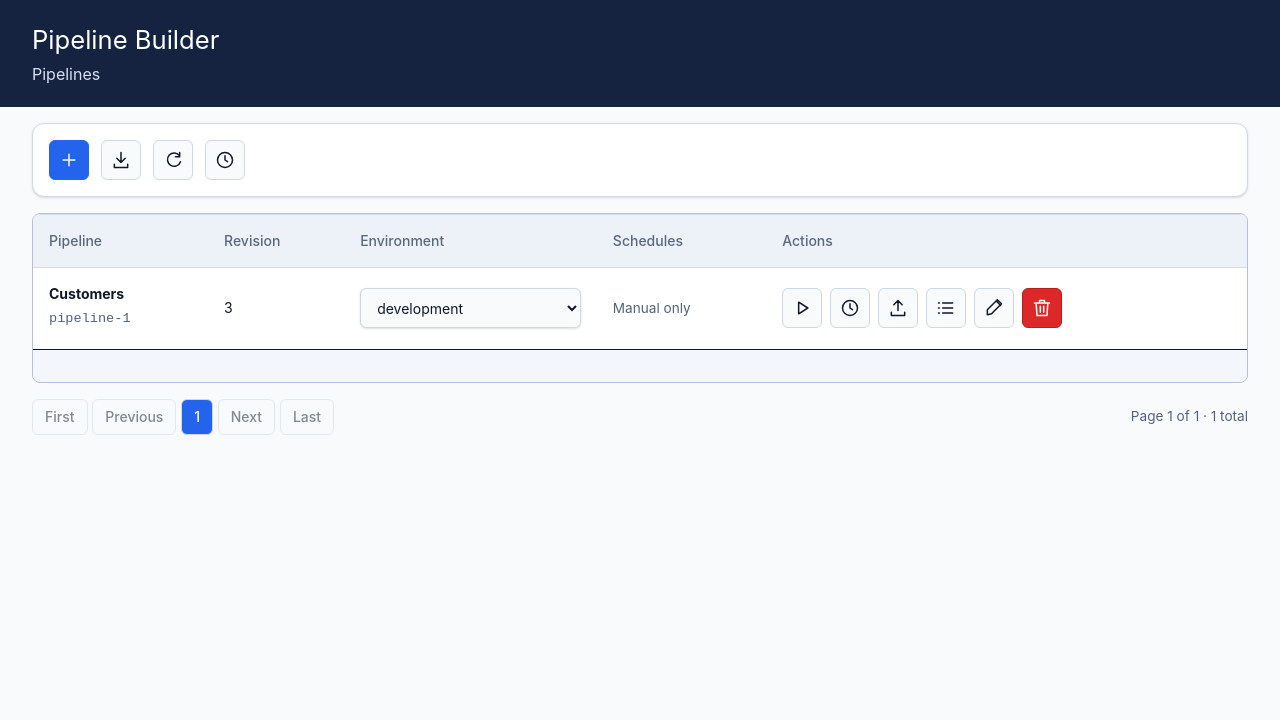
keeps a pipeline visible when deletion is rejected
Expected: the text "Customers" is shown, [49,285,124,302]
Click the button named "Delete Customers" at (1042, 308), box [1022,288,1062,328]
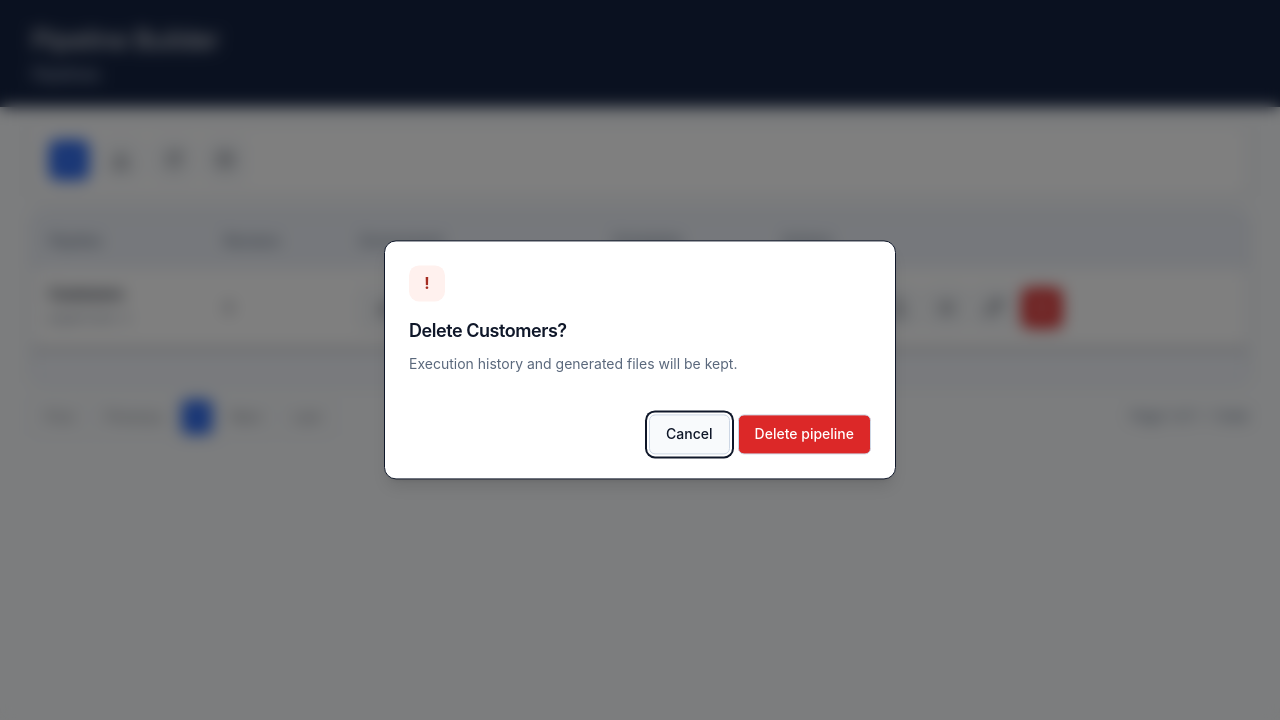
Click the button "Delete pipeline" at (804, 435), box [738,415,871,455]
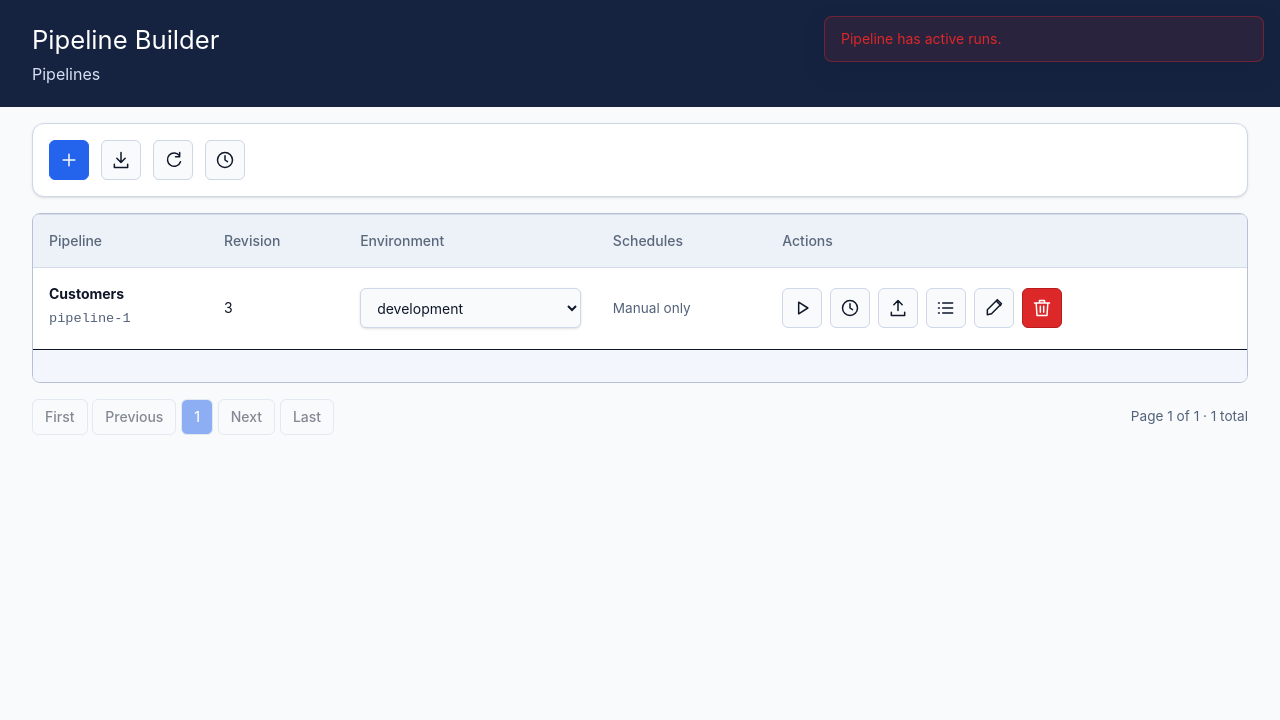
Expected: the text "Customers" is shown, [49,285,124,302]
Expected: the message reads "Pipeline has active runs.", [841,30,1002,47]
